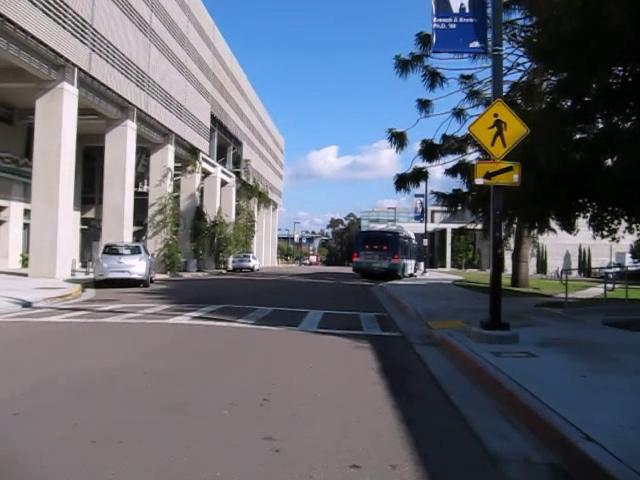pedestrianCrossing: (467, 97, 530, 161)
